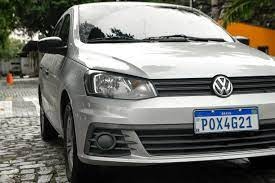carplate: (192, 108, 259, 133)
